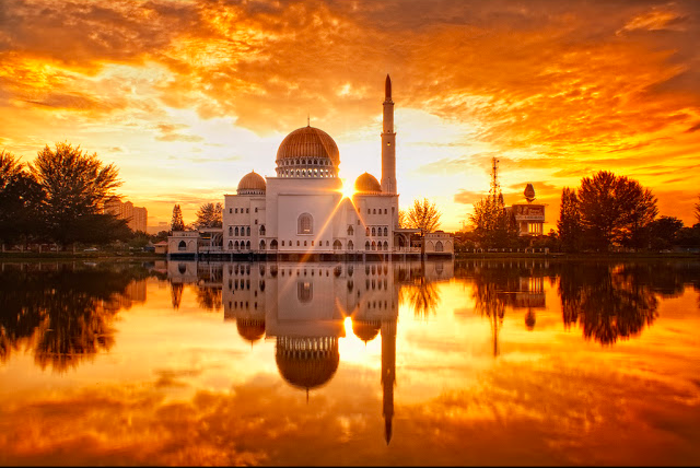Mosque: (194, 69, 400, 254)
